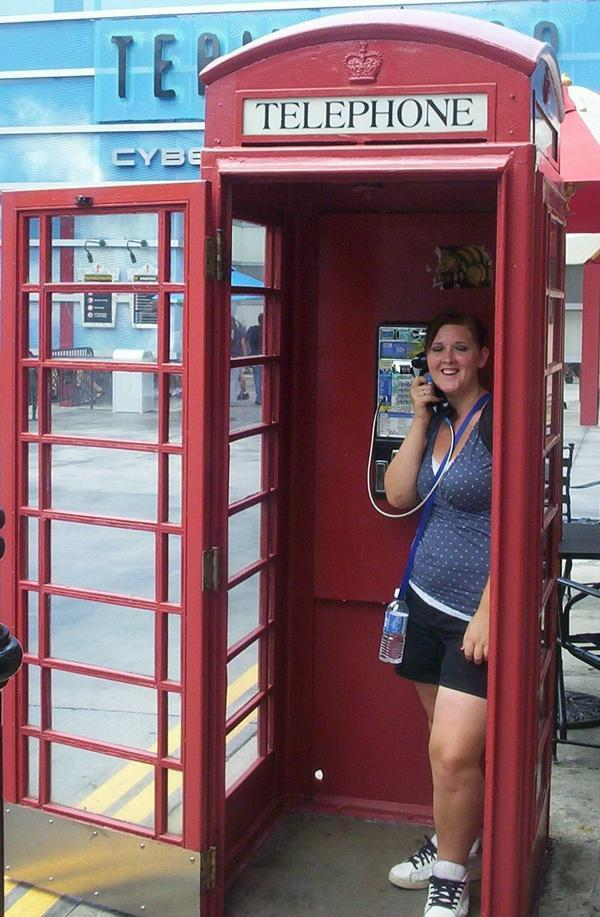person: (374, 297, 500, 916)
